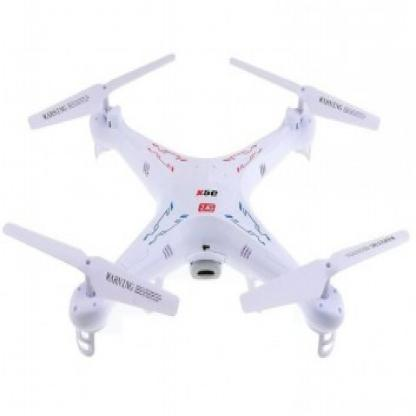drone: (17, 61, 414, 360)
